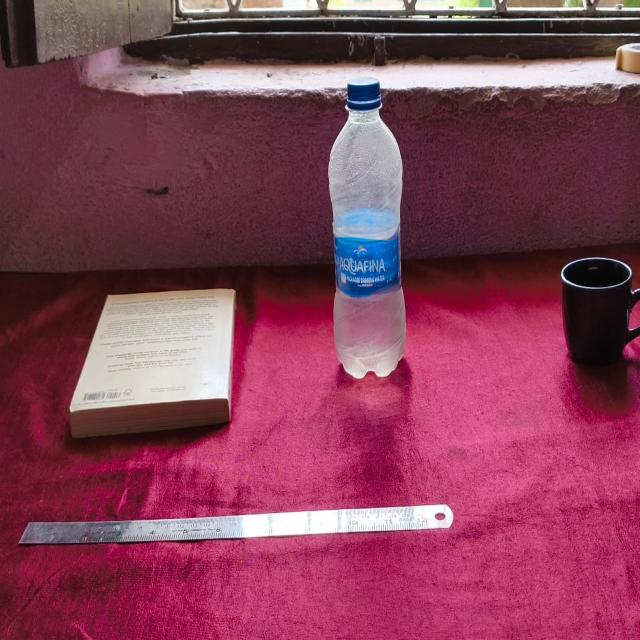Book: (70, 288, 235, 434)
Bottle: (327, 81, 406, 379)
Cup: (552, 259, 639, 370)
scale: (19, 502, 452, 543)
